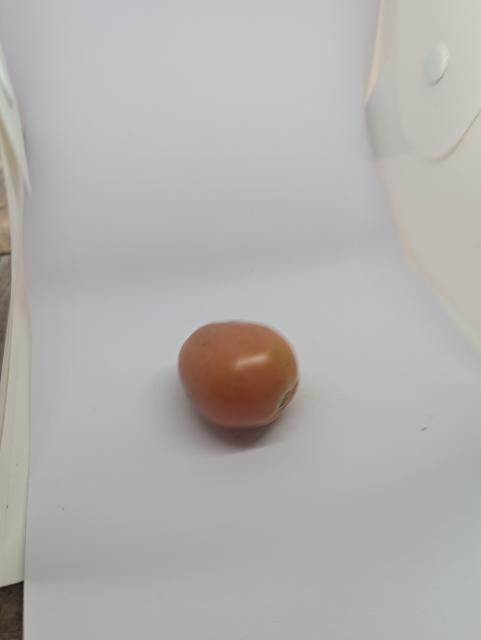turning: (161, 307, 308, 430)
